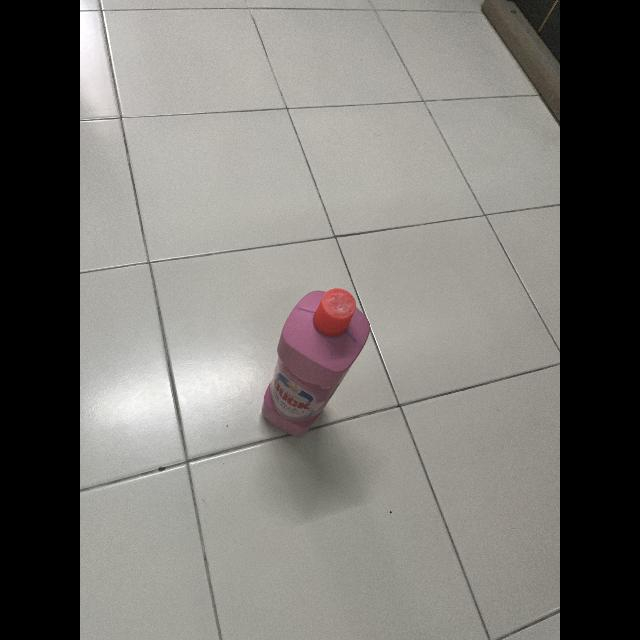chemical_plastic_bottle: (255, 281, 372, 441)
